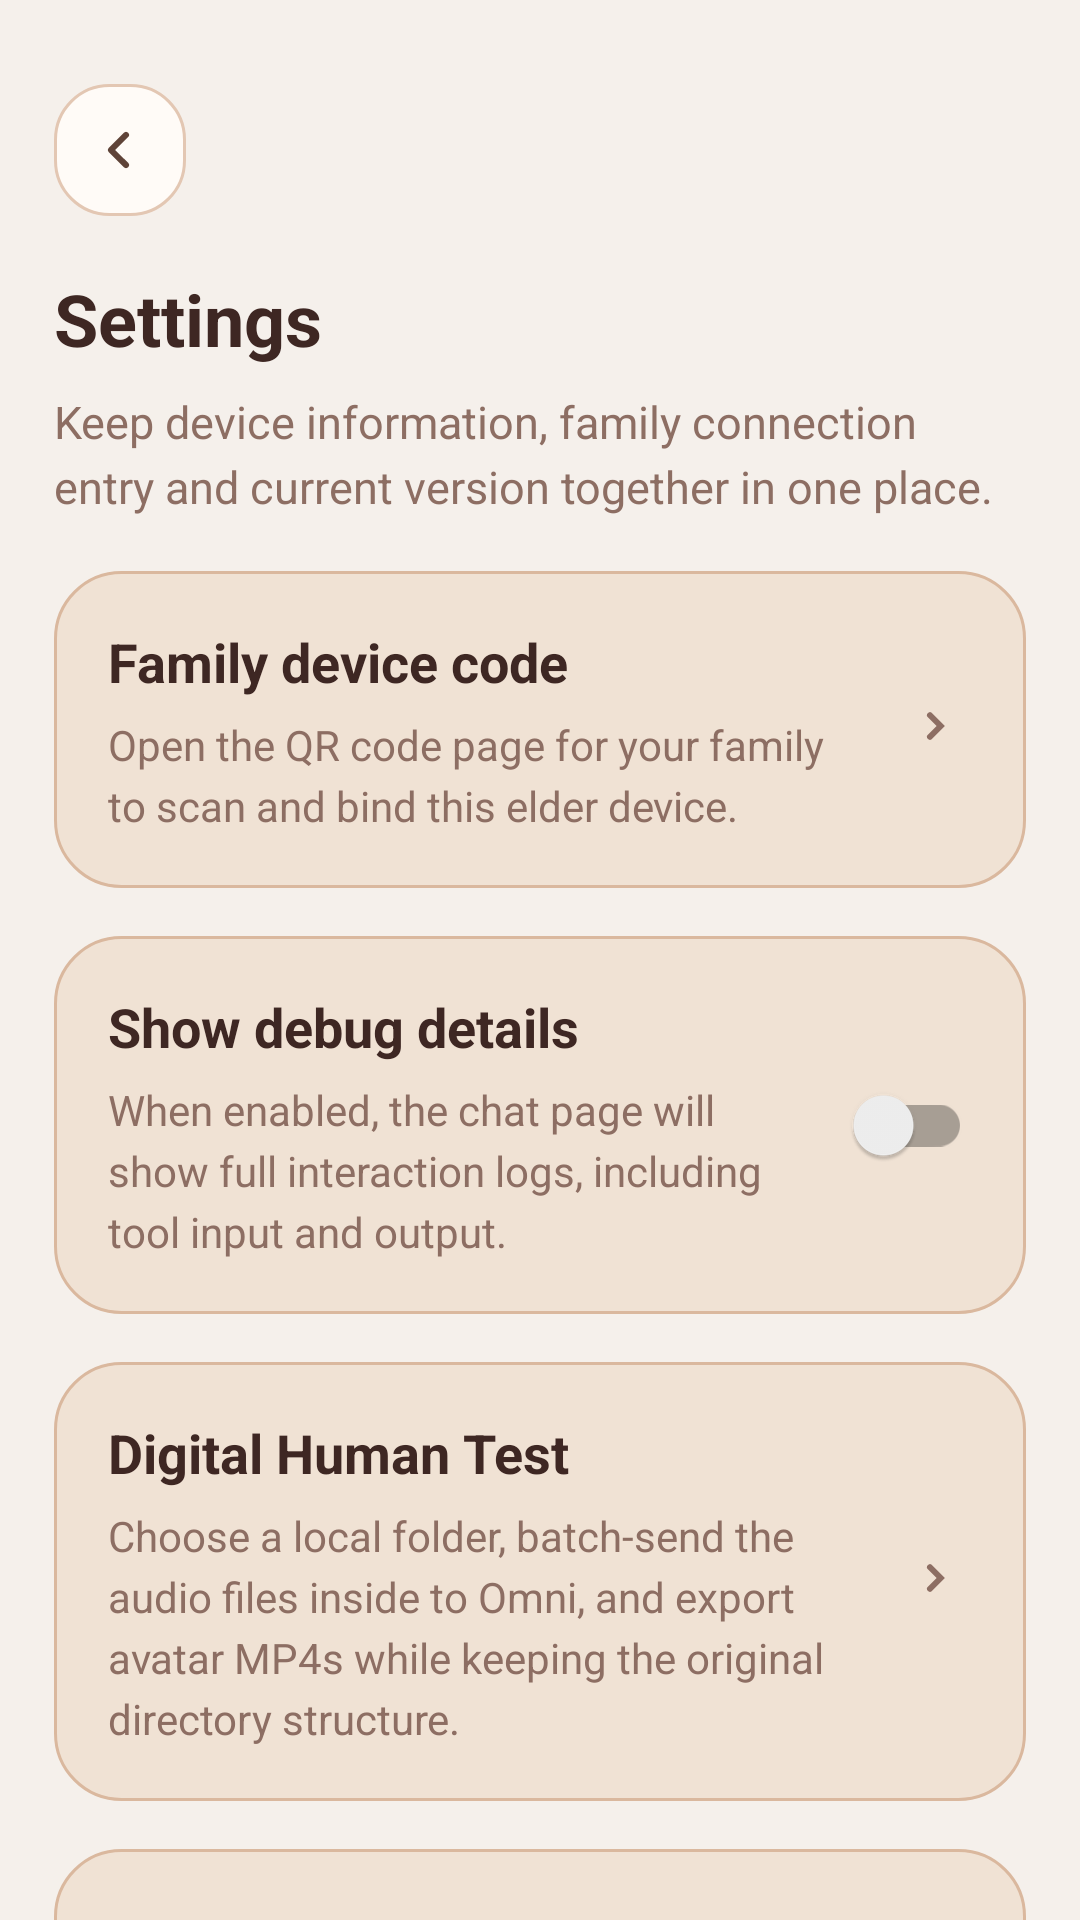

Screen size 1080 x 1920. Icon name, then its center in pixels as (x=x, y=y):
Back: (x=120, y=150)
chevron right: (x=936, y=726), (x=936, y=1578)
